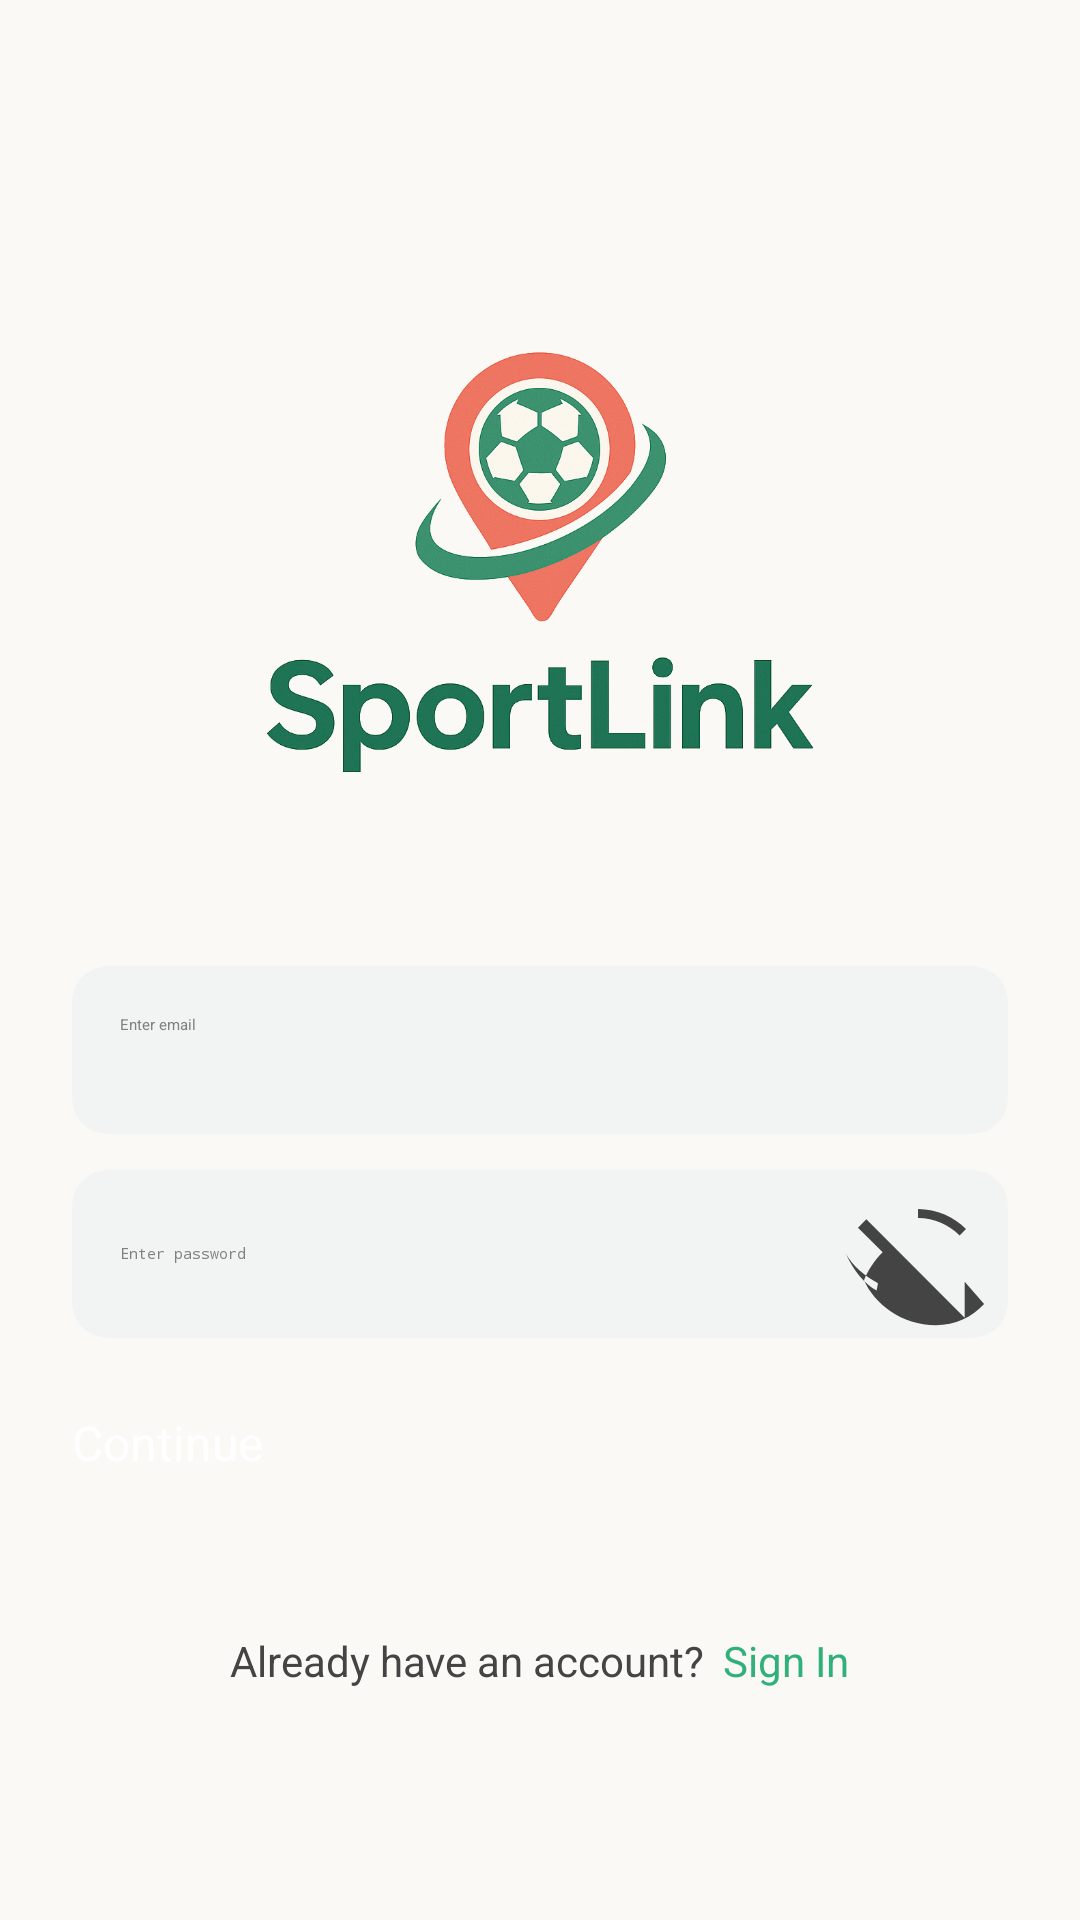

Where icons sit on this 1080*1920 app screen, as [x1,y1,x2,y2]:
Toggle password visibility: [846,1209,984,1326]
